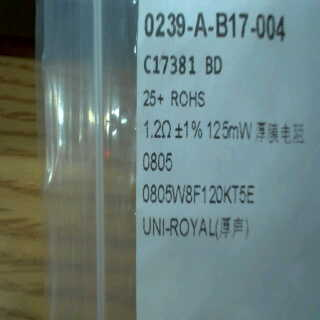1.2R: (141, 115, 173, 178)
